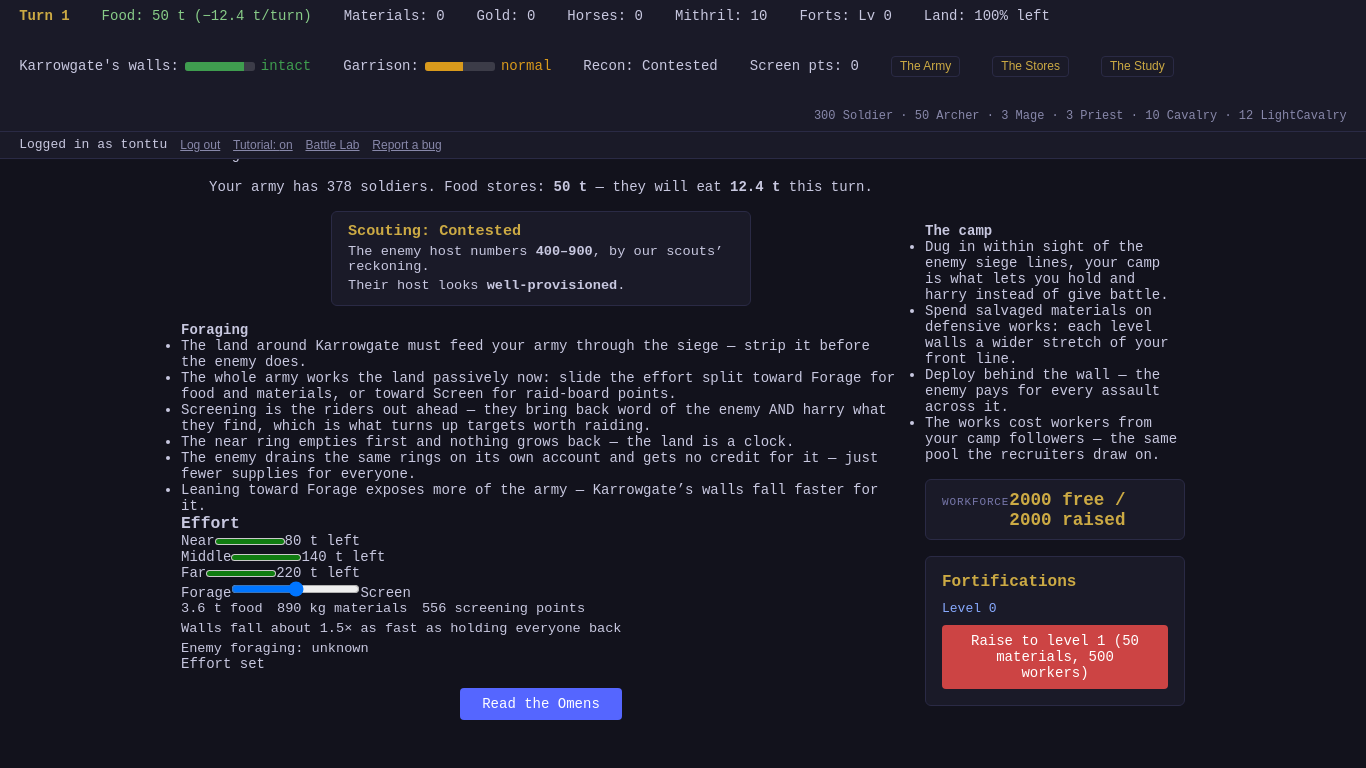
Test case: forage modifiers in the preview › applies the folded factor at every slider position
(page scrolled)
Expected: the text with test id "effort-preview-food" shows "3.6 t", [181,601,222,616]
Set the slider with test id "effort-slider" showing "Forage Screen" to "1": (352, 589) [231,581,360,597]
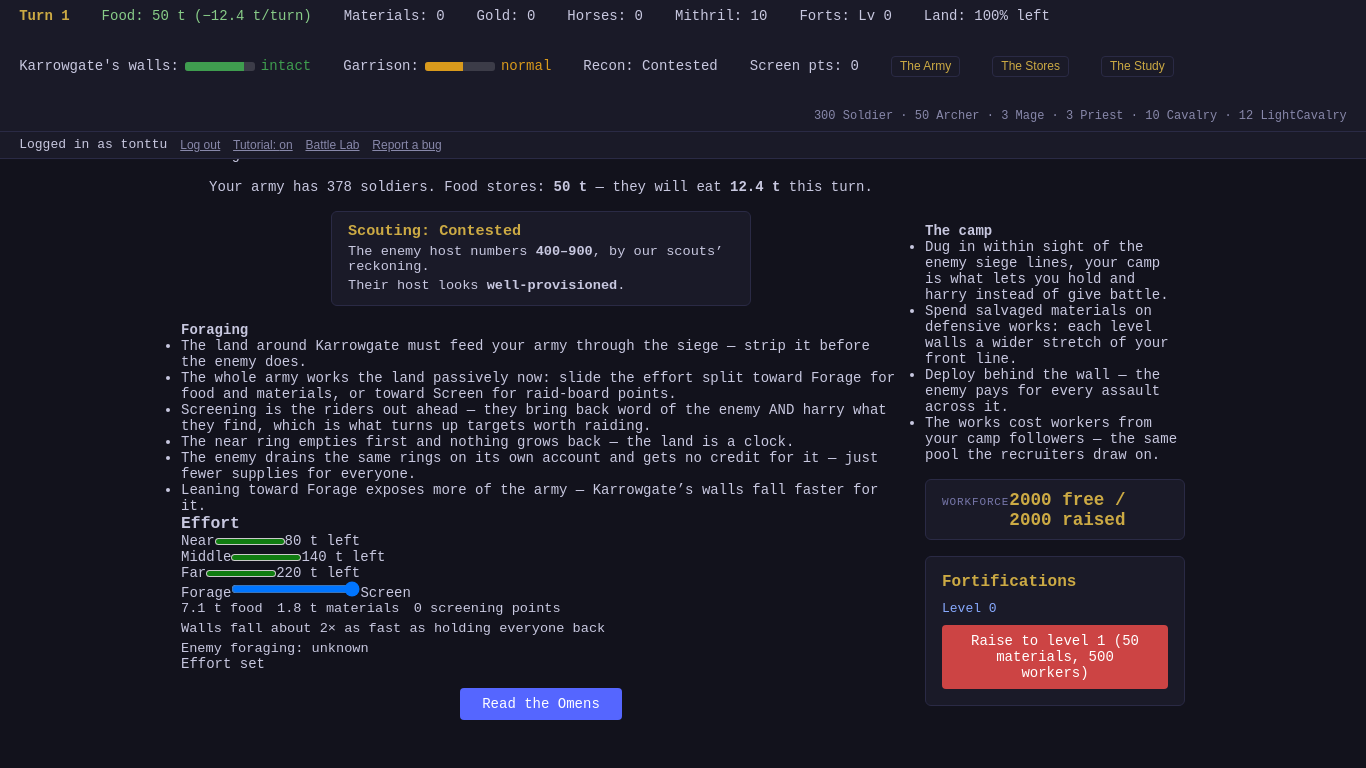
Result: the text with test id "effort-preview-food" shows "7.1 t" at [181,601,222,616]
